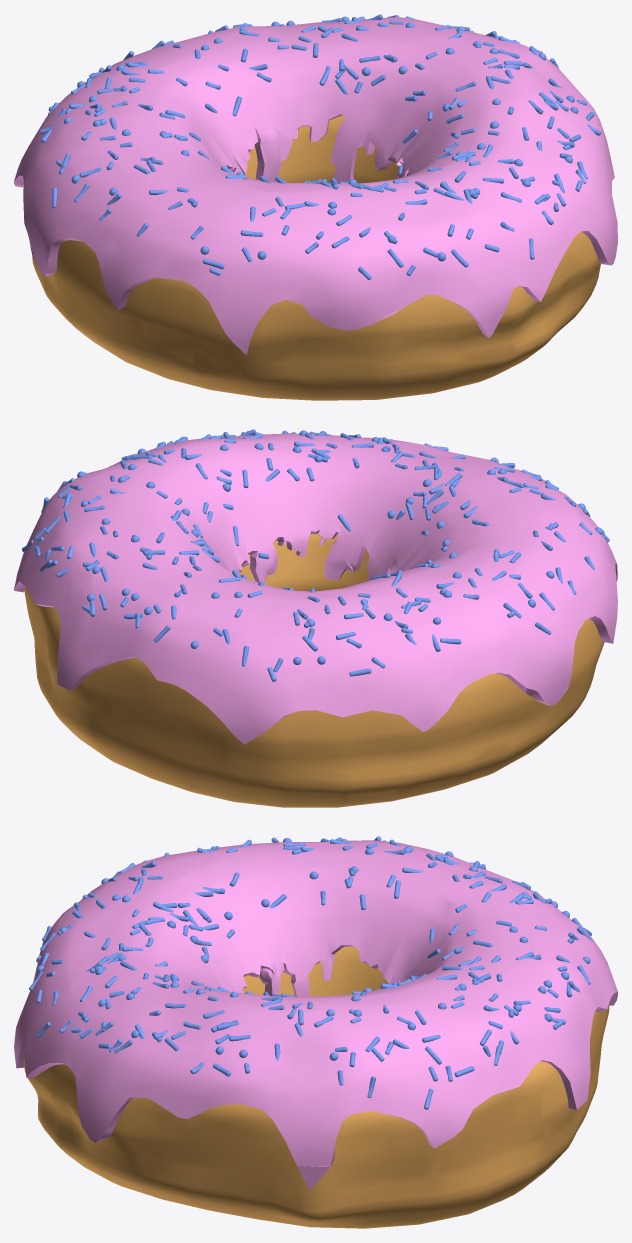
The model's file is Donut.fbx.
3 views of the same model, one above another, from view 1: azimuth 30°, elevation 25°; view 2: azimuth 150°, elevation 25°; view 3: azimuth 270°, elevation 25° (orthographic). The views are drawn at different scales.
Visible parts, largest first — view 1: Icy, Donut; view 2: Icy, Donut; view 3: Icy, Donut.
Boxes of the visible parts, bbox=[...] form: Icy: bbox=[14, 17, 617, 355]; Donut: bbox=[32, 115, 600, 400]; Icy: bbox=[14, 433, 617, 744]; Donut: bbox=[24, 533, 604, 807]; Icy: bbox=[14, 840, 617, 1190]; Donut: bbox=[24, 946, 609, 1228].
Size of what is drawn, in the model's own units: 15.62 by 6.07 by 15.12.
